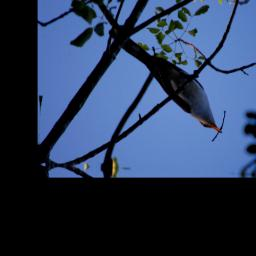Cuckoo: (118, 40, 228, 135)
